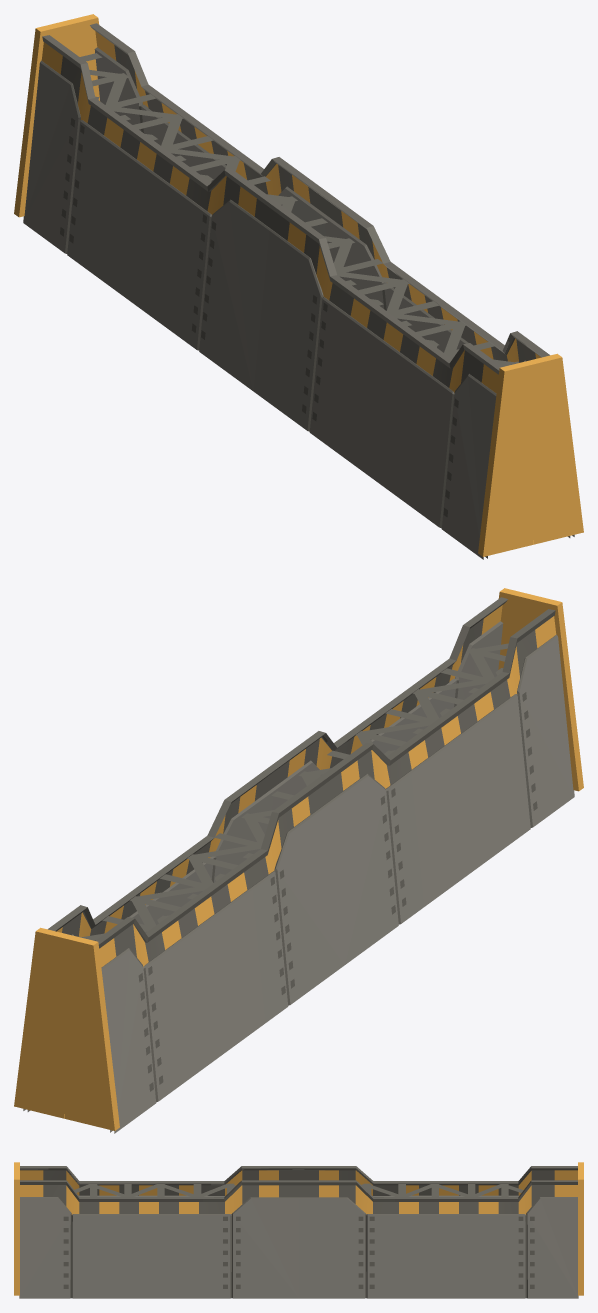
The model's file is Wall.FBX.
3 views of the same model, one above another, from view 1: azimuth 30°, elevation 25°; view 2: azimuth 150°, elevation 25°; view 3: azimuth 270°, elevation 25° (orthographic). The views are drawn at different scales.
Visible parts, largest first — view 1: Box002; view 2: Box002; view 3: Box002.
Boxes of the visible parts, box(x1,y1,x2,y2) form: Box002: box(14, 14, 583, 559); Box002: box(14, 588, 583, 1133); Box002: box(14, 1162, 583, 1298).
Size of the model in its own units: 125 by 222 by 1005.
